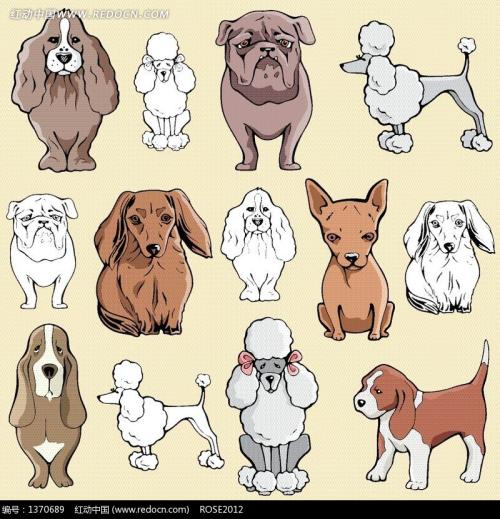dog: (5, 12, 130, 127), (90, 177, 207, 282), (210, 10, 330, 105), (401, 185, 487, 290), (350, 362, 425, 452), (5, 181, 80, 261), (15, 326, 86, 406)
